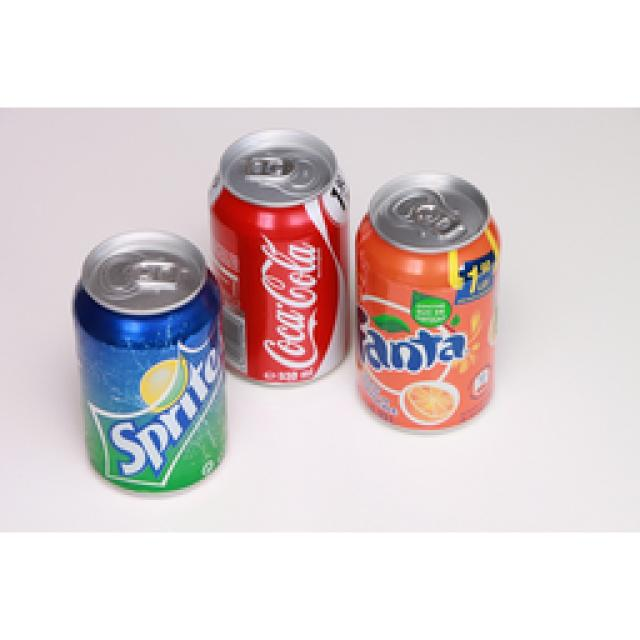aluminum_soda_cans: (78, 230, 230, 498), (358, 183, 505, 427), (213, 138, 357, 387)
